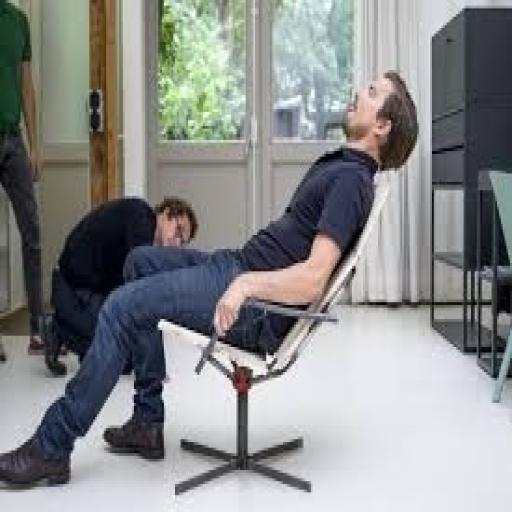sitting: (0, 64, 419, 490)
